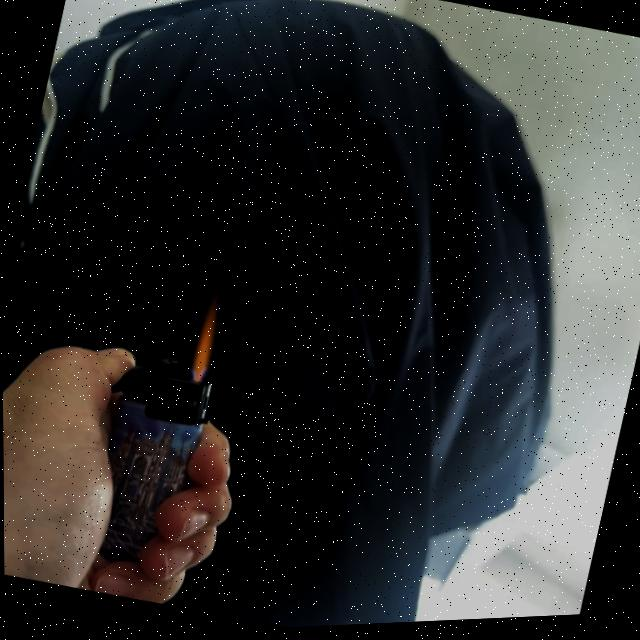Fire: (183, 295, 225, 379)
